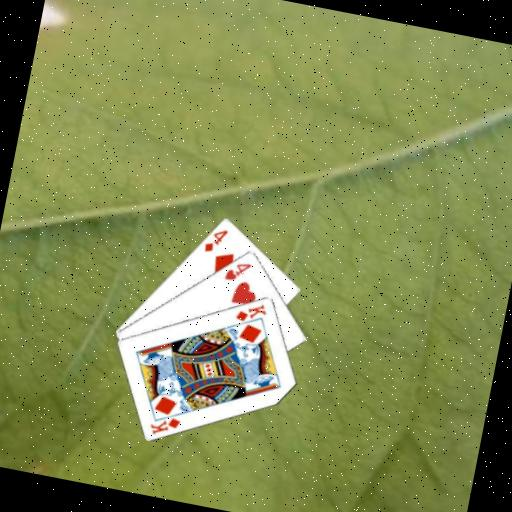4D: (201, 223, 231, 257)
4H: (221, 255, 254, 285)
KD: (232, 296, 270, 327), (147, 410, 183, 440)
